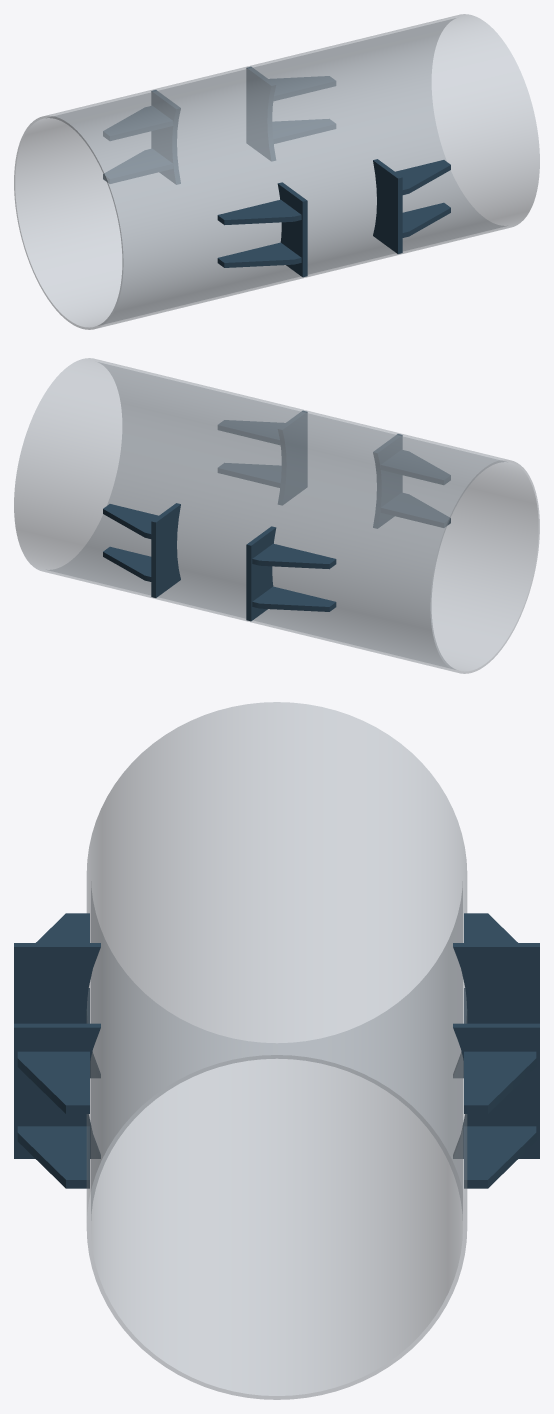
File: TS-660.00.00-15-opora-dn630.glb
The picture shows the model from 3 angles, top to bottom: view 1: azimuth 30°, elevation 25°; view 2: azimuth 150°, elevation 25°; view 3: azimuth 270°, elevation 25°; orthographic projection. The views are drawn at different scales.
Parts seen in each view (by area): view 1: truba, upor_1, upor_7, upor_4, upor_10, upor_6, upor_5, upor_11, upor_12, upor_8, upor_9, upor_2 (+1 smaller); view 2: truba, upor_7, upor_1, upor_10, upor_4, upor_11, upor_12, upor_6, upor_5, upor_3, upor_2, upor_9 (+1 smaller); view 3: truba, upor_4, upor_10, upor_1, upor_7, upor_2, upor_9, upor_3, upor_8, upor_5, upor_12.
Part boxes in pixels (<box>): truba: <box>14,14,539,329</box>; upor_1: <box>373,159,402,253</box>; upor_7: <box>246,66,275,160</box>; upor_4: <box>277,182,307,277</box>; upor_10: <box>151,90,180,184</box>; upor_6: <box>217,242,301,267</box>; upor_5: <box>217,199,301,225</box>; upor_11: <box>103,149,172,183</box>; upor_12: <box>103,106,172,140</box>; upor_8: <box>272,119,335,143</box>; upor_9: <box>269,76,335,100</box>; upor_2: <box>395,160,450,194</box>; truba: <box>14,358,539,673</box>; upor_7: <box>151,503,180,597</box>; upor_1: <box>278,410,307,504</box>; upor_10: <box>246,526,276,621</box>; upor_4: <box>373,434,402,528</box>; upor_11: <box>252,586,336,611</box>; upor_12: <box>252,543,336,569</box>; upor_6: <box>381,493,450,527</box>; upor_5: <box>381,450,450,484</box>; upor_3: <box>218,463,281,487</box>; upor_2: <box>218,420,284,444</box>; upor_9: <box>103,504,158,538</box>; truba: <box>86,702,467,1399</box>; upor_4: <box>14,943,100,1078</box>; upor_10: <box>453,943,539,1078</box>; upor_1: <box>14,1023,100,1158</box>; upor_7: <box>453,1023,539,1158</box>; upor_2: <box>17,1051,89,1113</box>; upor_9: <box>464,1051,536,1113</box>; upor_3: <box>17,1126,89,1188</box>; upor_8: <box>464,1126,536,1188</box>; upor_5: <box>36,913,89,942</box>; upor_12: <box>464,913,517,942</box>.
Bounding box in the file's own units: 1382 × 630 × 870.
